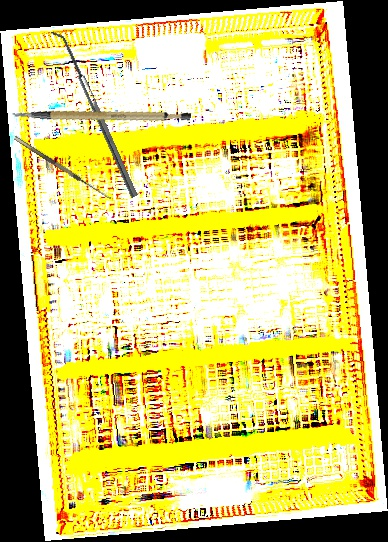Hook Surgical: (13, 130, 115, 202)
Scalpel Handle: (11, 83, 192, 145)
Spatula Surgical: (50, 27, 138, 201)
